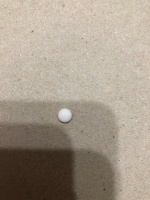Yuvarlak Buskopan: (56, 107, 73, 125)
